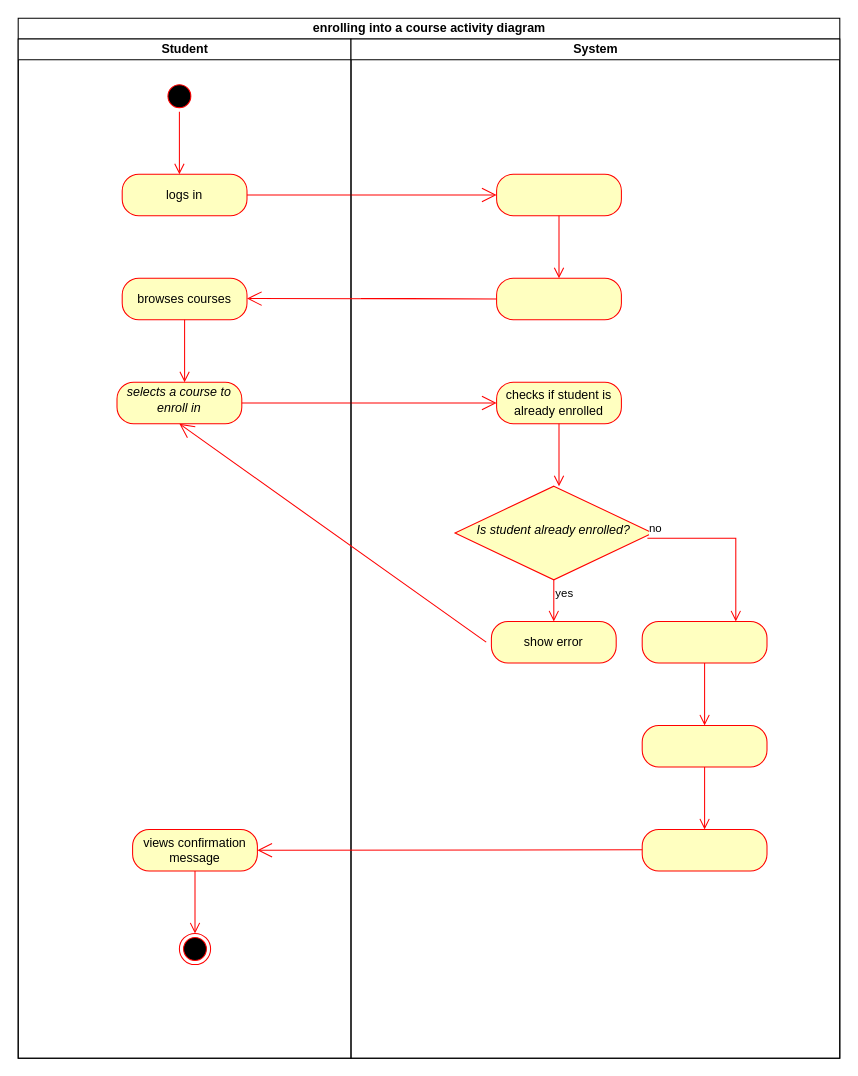
Image size: 858x1076. Some labels were removed from this diagram. The shapes that lost their labels are listed below. From the top down, each one's box as (x1, y1, x2, y2) in pixels, then its label:
(496, 173, 621, 216): verifies credentials
(496, 277, 621, 320): displays available courses
(641, 620, 767, 663): enrolls student in course
(641, 724, 767, 767): updates database
(641, 828, 767, 871): shows confirmation
